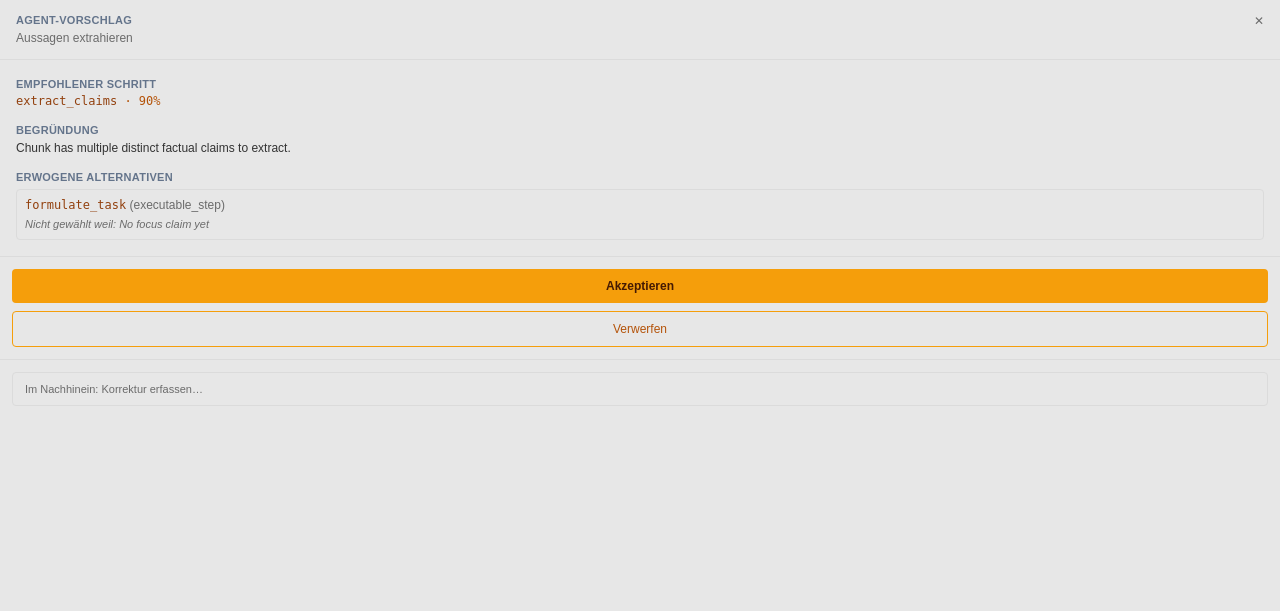
PlanProposalPanel — post-hoc drawer › Esc collapses the drawer back to the toggle without submitting
Click the button with test id "plan-posthoc-toggle". click: (114, 388)
box: [12, 372, 1268, 406]
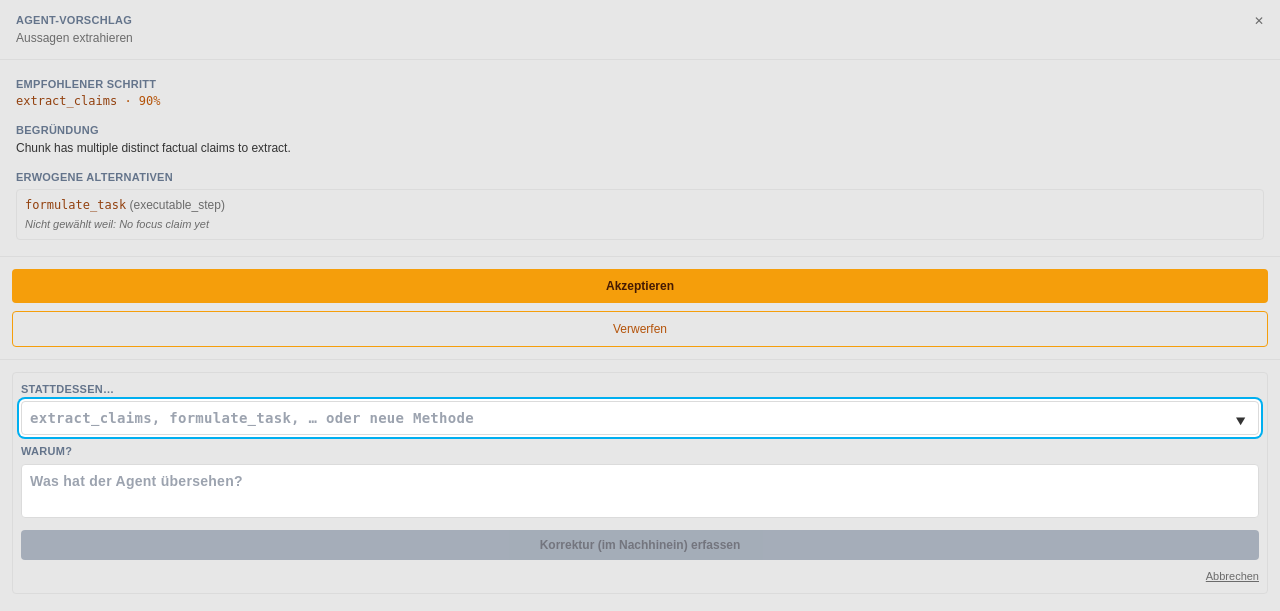
Now the field labelled "Stattdessen…" is shown, box [21, 401, 1259, 435]
Press Escape
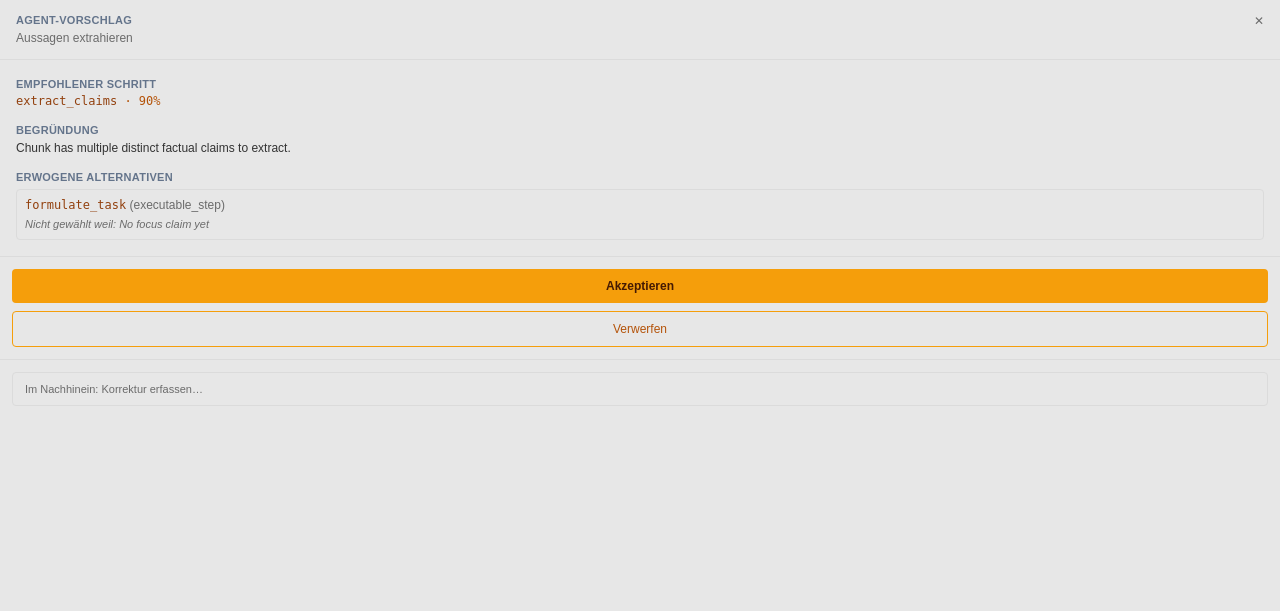
Now the label labelled "Stattdessen…" is gone
Now the button with test id "plan-posthoc-toggle" is shown, box [12, 372, 1268, 406]
